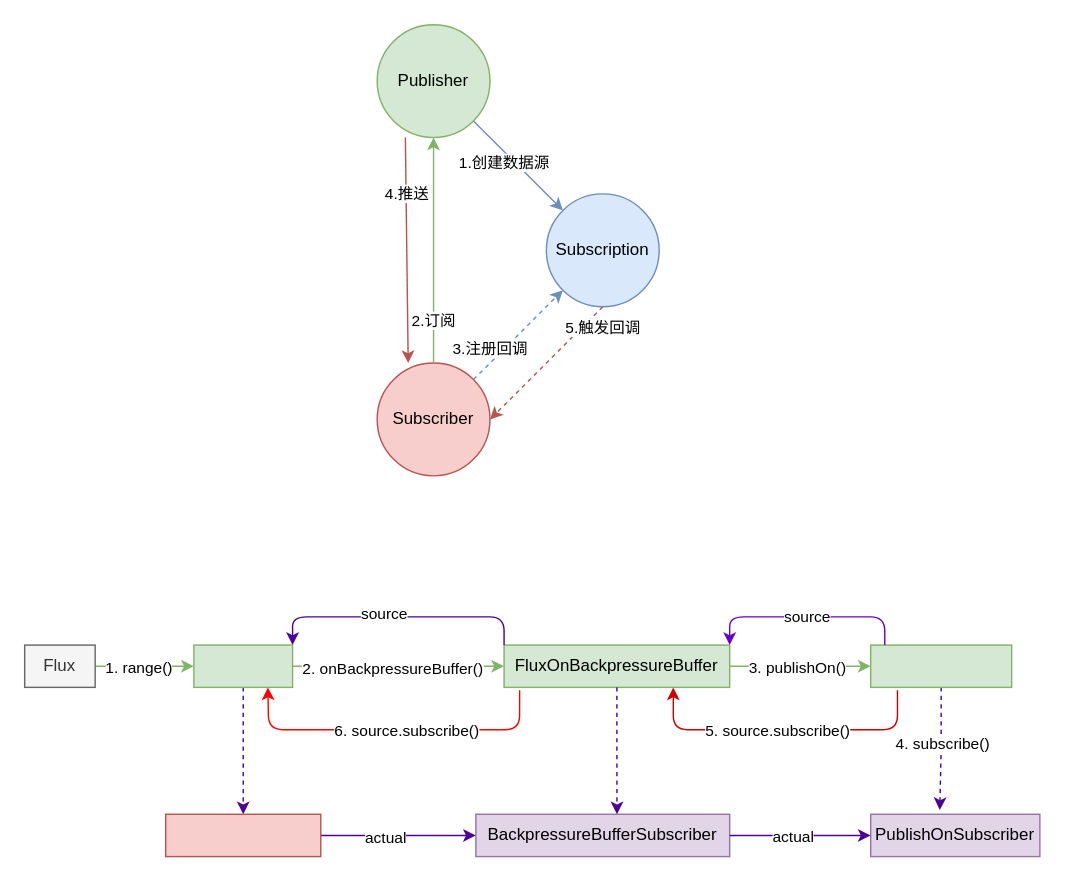
Image size: 1065x881. Some labels were removed from this diagram. Here are the shapes that lost their labels. From the top down, the box of each, then its label:
(192, 644, 293, 687): FluxRange
(869, 644, 1012, 687): FluxPublishOn
(164, 813, 321, 857): RangeSubscription
